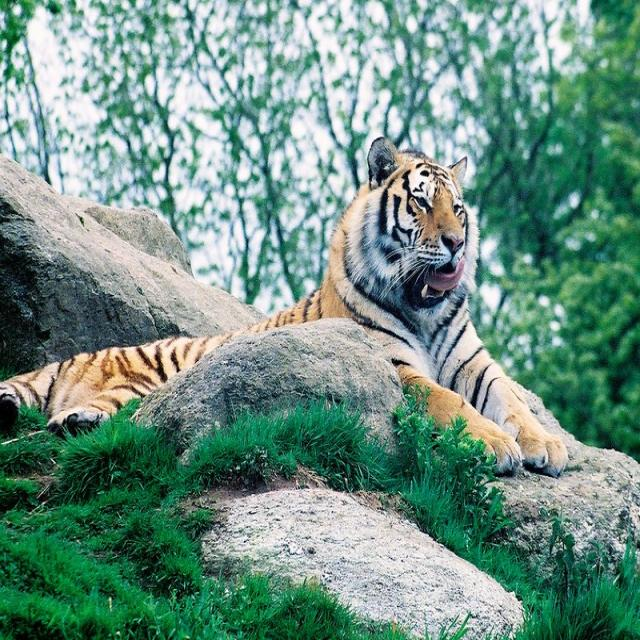Tiger: (1, 131, 568, 477)
